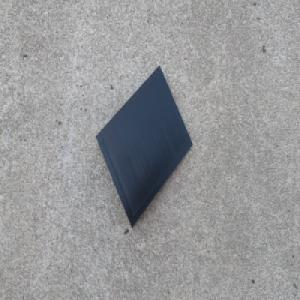PlasticPart: (94, 63, 193, 229)
